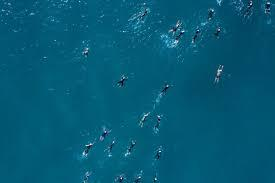swimmer: (214, 63, 225, 85), (105, 138, 117, 155), (168, 20, 182, 34), (82, 142, 94, 157), (138, 8, 150, 22), (161, 82, 172, 96), (139, 112, 149, 126), (126, 140, 135, 155), (117, 75, 128, 87), (192, 28, 200, 43), (99, 129, 108, 142), (264, 0, 271, 16), (245, 1, 252, 17), (155, 115, 161, 133), (214, 26, 223, 37), (154, 145, 162, 157), (207, 9, 214, 22), (135, 174, 144, 183), (117, 176, 127, 183), (82, 47, 89, 55), (154, 176, 159, 183)
